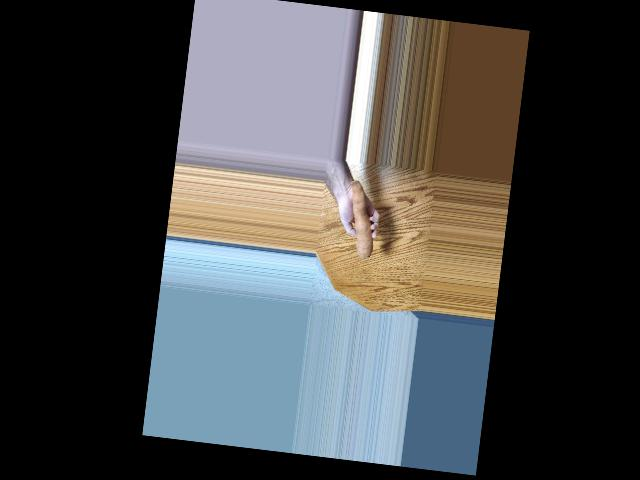sweet_potato: (344, 183, 381, 261)
